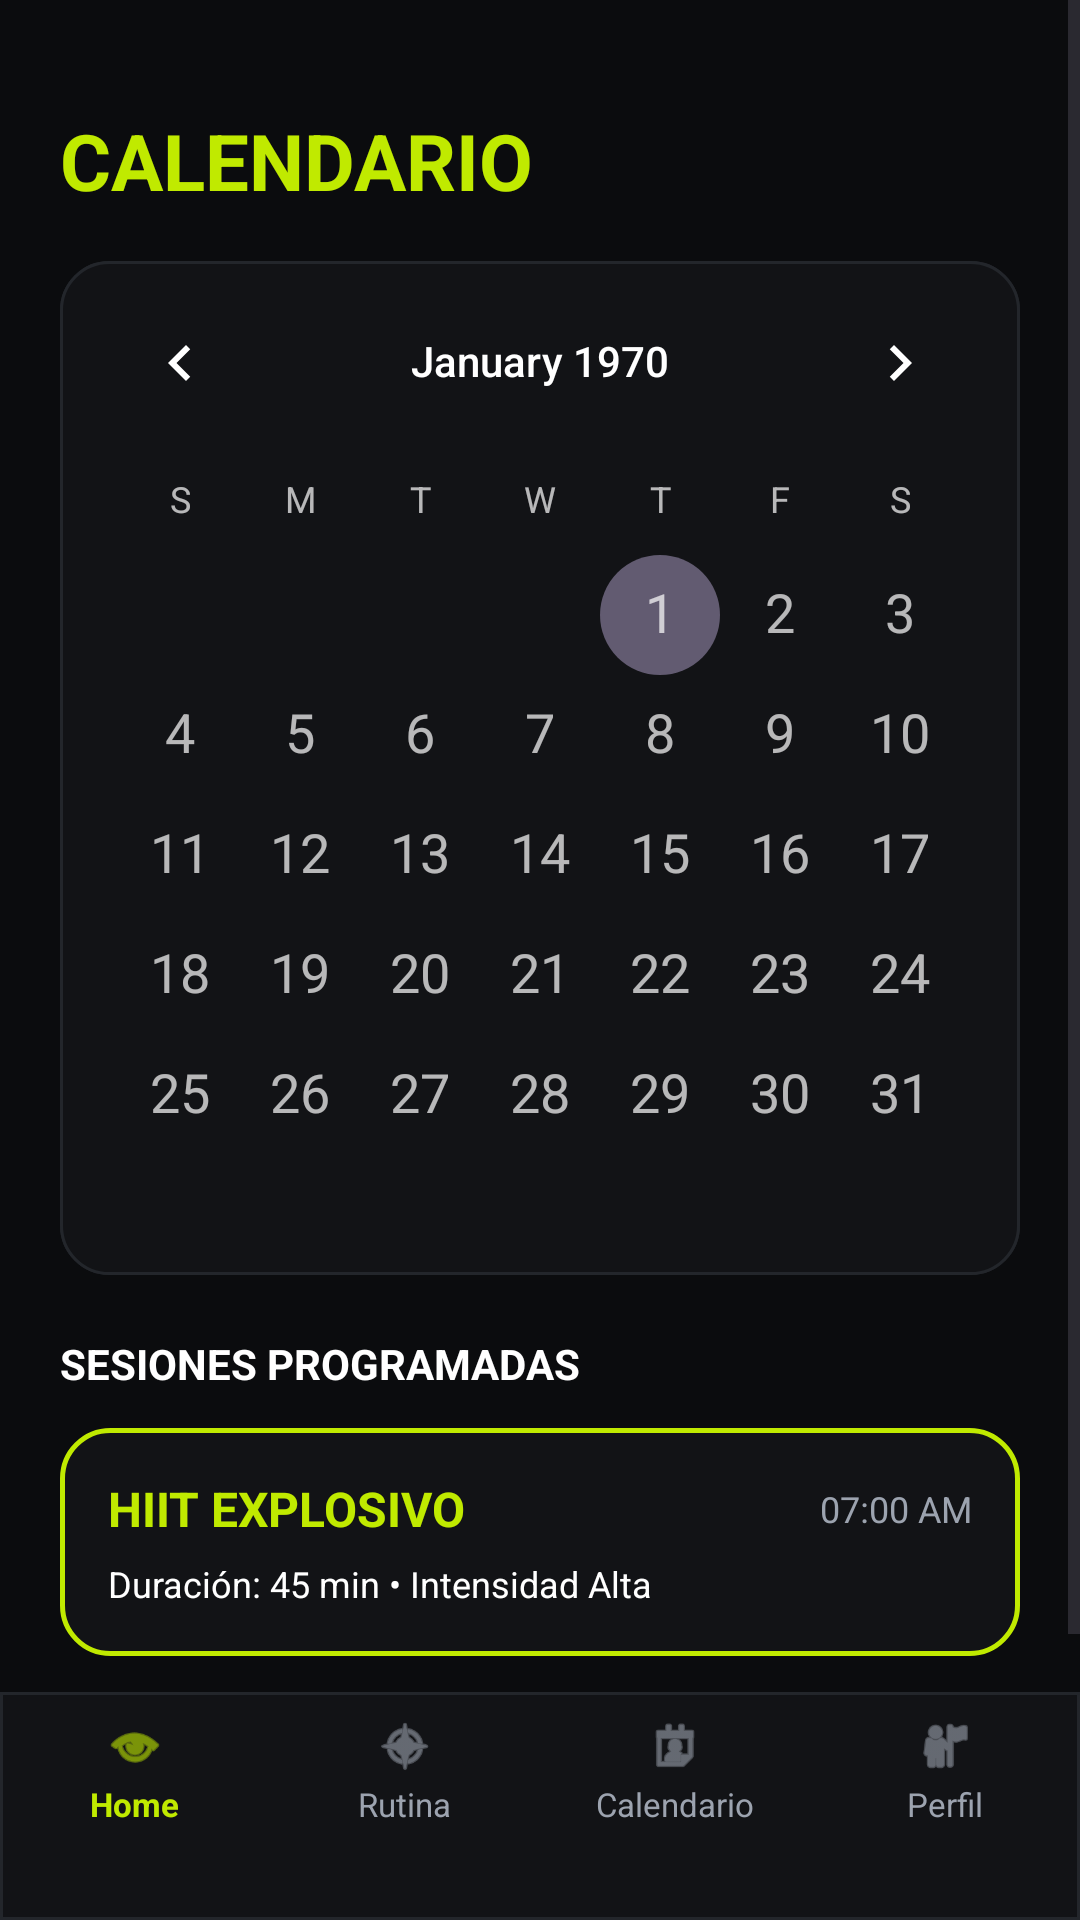

Named icons in this screenshot (1080px×1920px) and their bounding boxes, (x1, y1, x2, y2):
view: (111, 1732, 159, 1763)
